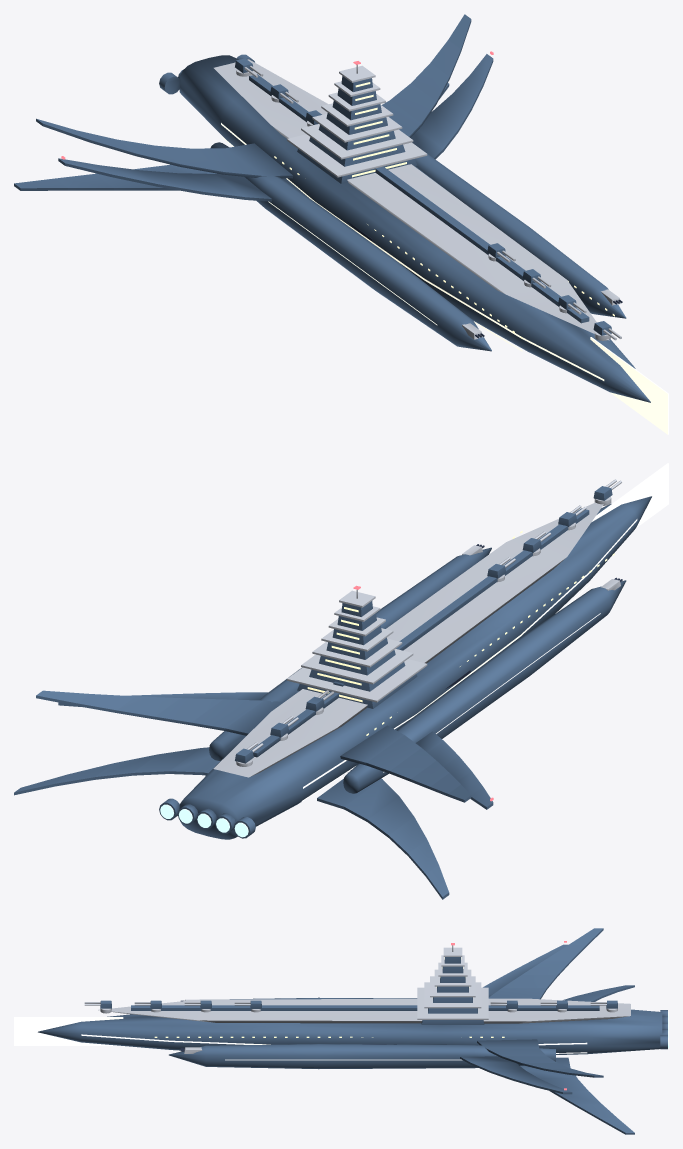
Rendered from xzd.glb.
The picture shows the model from 3 angles, top to bottom: view 1: azimuth 30°, elevation 25°; view 2: azimuth 150°, elevation 25°; view 3: azimuth 270°, elevation 25°; orthographic projection. The views are drawn at different scales.
Parts seen in each view (by area): view 1: xzd; view 2: xzd; view 3: xzd.
Part boxes in pixels (x1,y1,x2,y2): xzd: (14, 14, 668, 434); xzd: (14, 463, 668, 899); xzd: (14, 928, 668, 1134).
Size of the model in its own units: 44.87 by 16.54 by 83.86.
